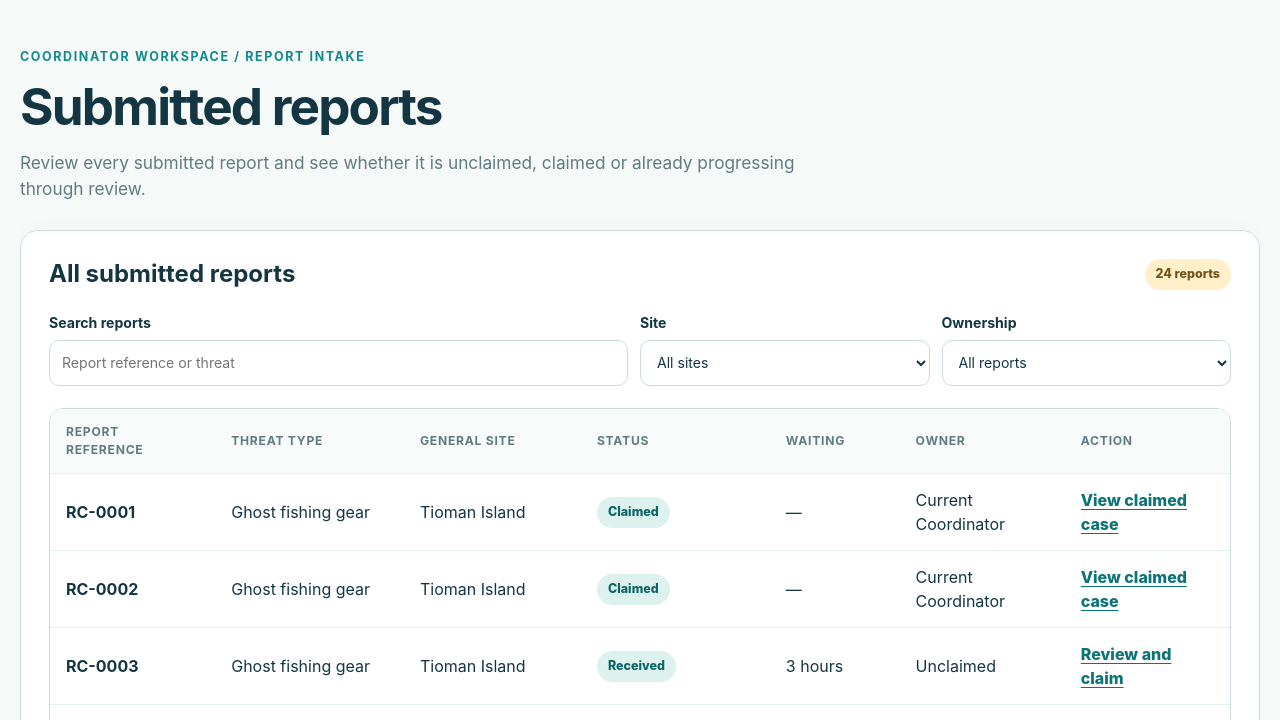
it: Coordinator report queue › recalculates counts and page controls for the active ownership filter
Select "Claimed by me" in the dropdown labelled "Ownership" at (1086, 363), box [942, 340, 1231, 386]
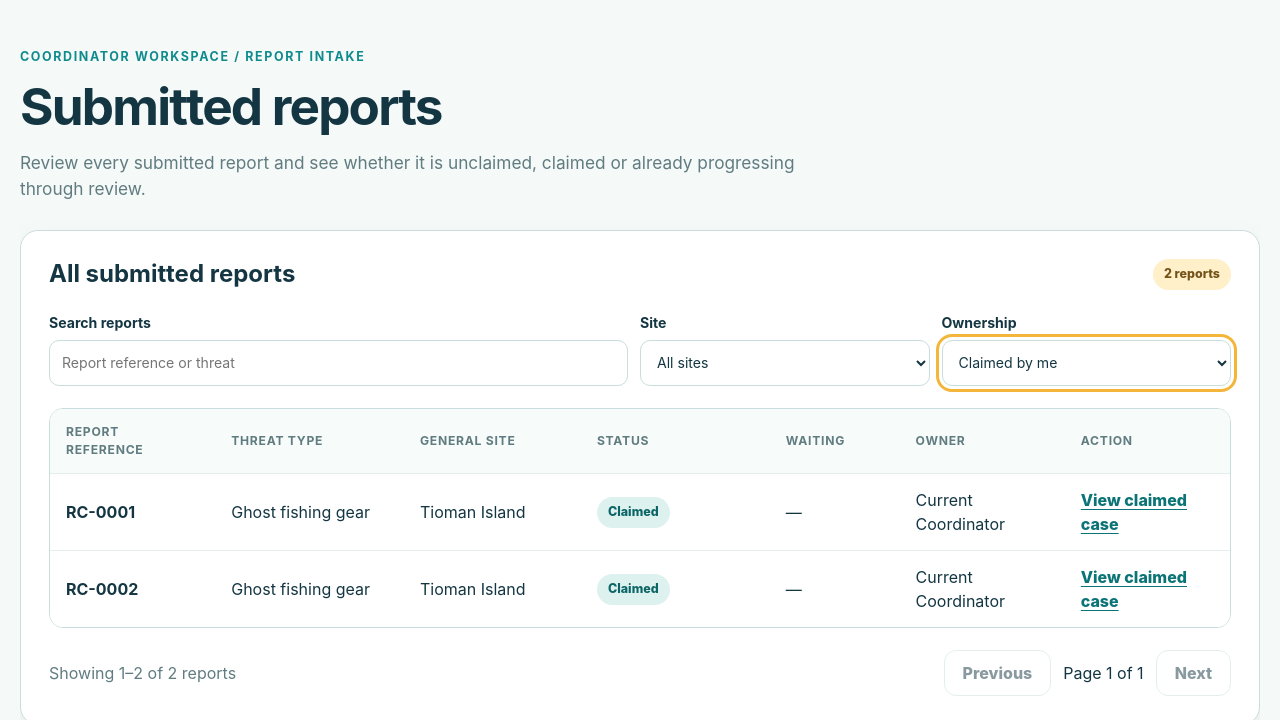
Check: the text "2 reports" is shown, box [1153, 259, 1231, 290]
Check: the text "Showing 1–2 of 2 reports" is shown, box [49, 661, 236, 685]
Check: the button "Next" is disabled, box [1156, 650, 1231, 696]
